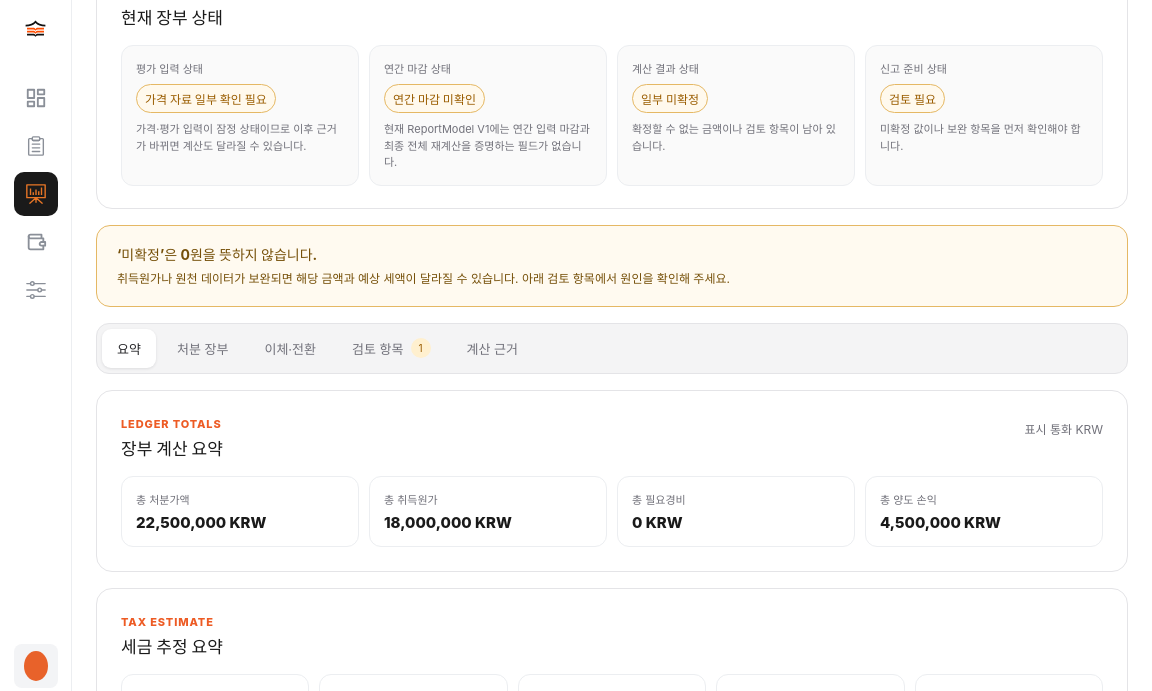
it: ReportPage › isolates an evidence-pack failure from the report detail
(page scrolled)
Check: the heading "장부 계산 요약" is shown, box [121,435,223,460]
Click the tab "계산 근거": (492, 348) [452,329,533,368]
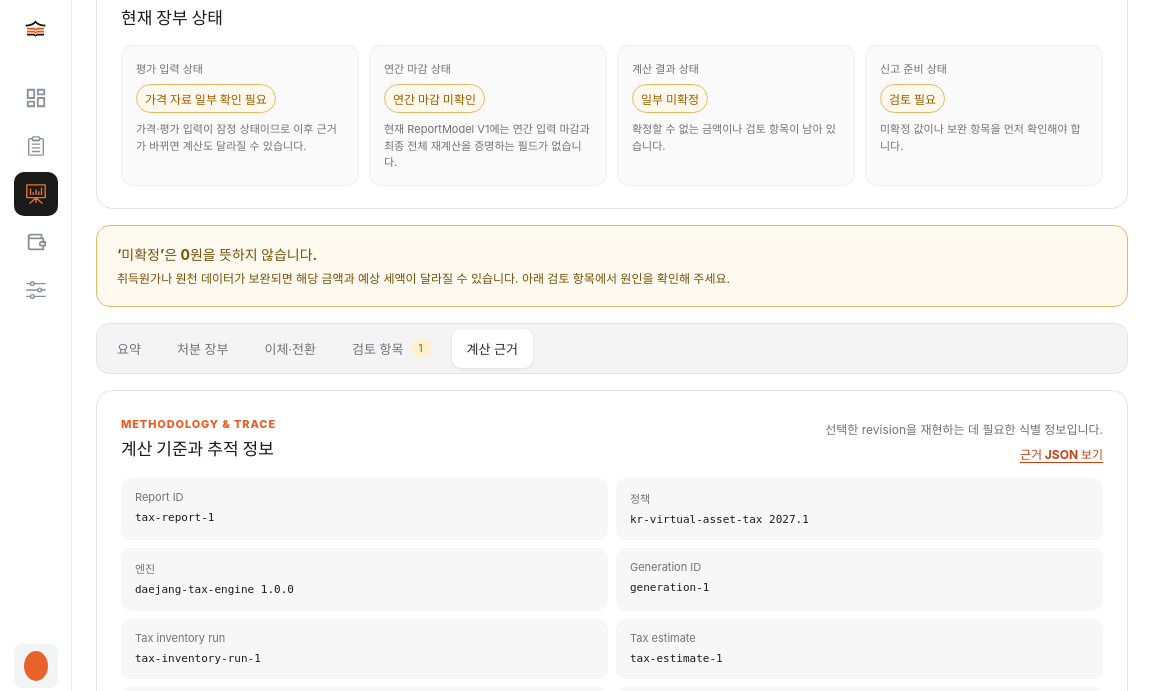
Check: the heading "계산 기준과 추적 정보" is shown, box [121,435,276,460]
